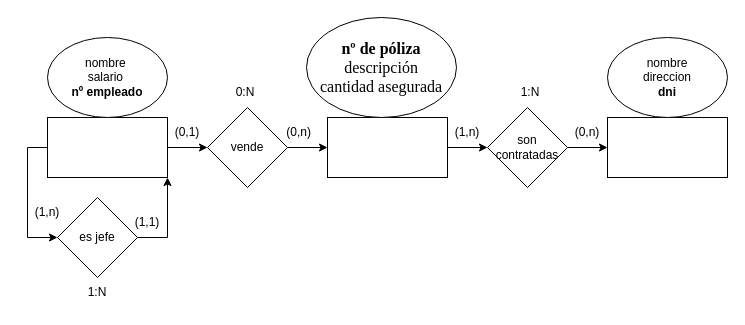
The diagram is 745 pixels wide and 325 high, and some of its shapes have lost their labels. Each missing label, with the box of its shape:
beneficiarios: (606, 116, 728, 178)
empleado: (46, 116, 168, 178)
polizas: (326, 116, 448, 178)
